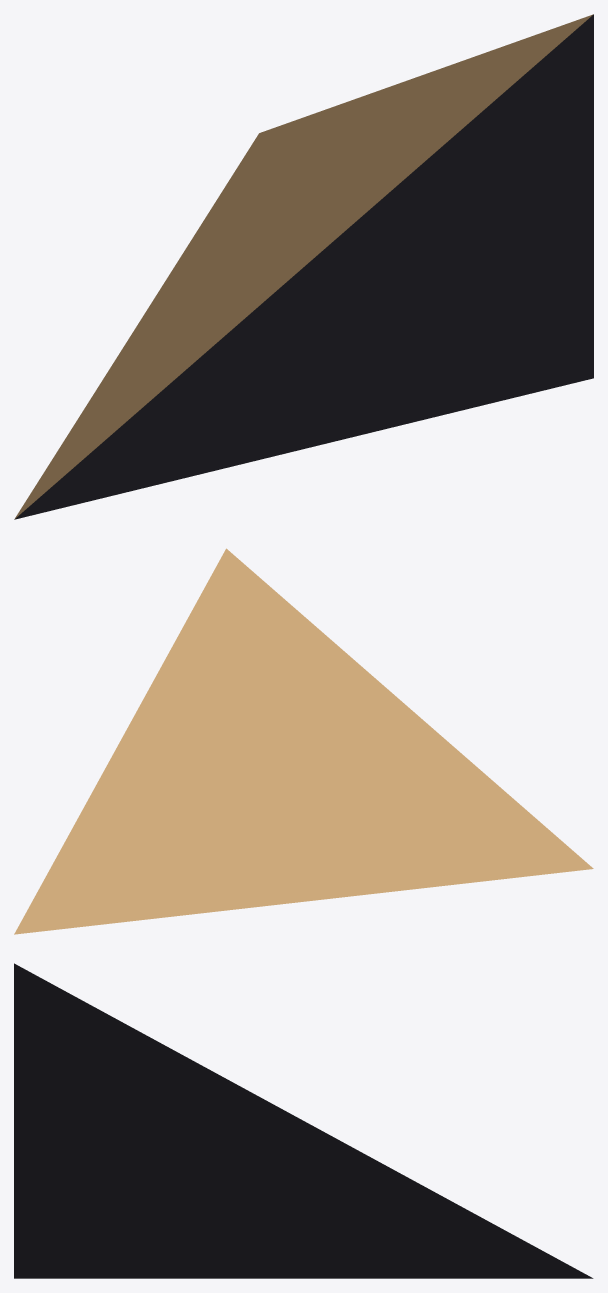
3 renders of one model, top to bottom at view 1: azimuth 30°, elevation 25°; view 2: azimuth 150°, elevation 25°; view 3: azimuth 270°, elevation 25°, orthographic. The views are drawn at different scales.
Visible parts, largest first — view 1: Pyramid_6; view 2: Pyramid_6; view 3: Pyramid_6.
Part boxes in pixels (x1=…): Pyramid_6: x1=14, y1=14, x2=593, y2=519; Pyramid_6: x1=14, y1=548, x2=593, y2=934; Pyramid_6: x1=14, y1=963, x2=593, y2=1278.
Size of the model in its own units: 10 by 6 by 10.
